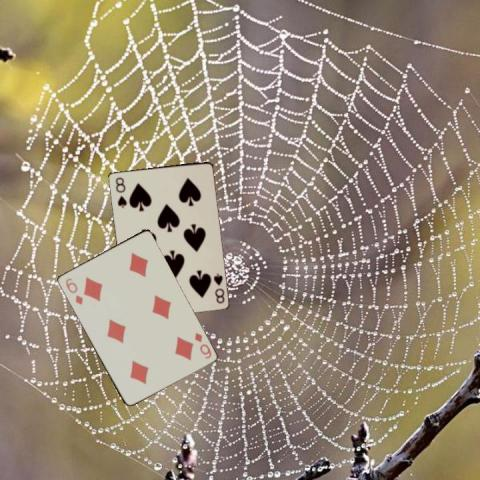6d: (62, 275, 84, 306), (191, 329, 213, 360)
8s: (112, 174, 128, 209), (210, 270, 225, 305)
